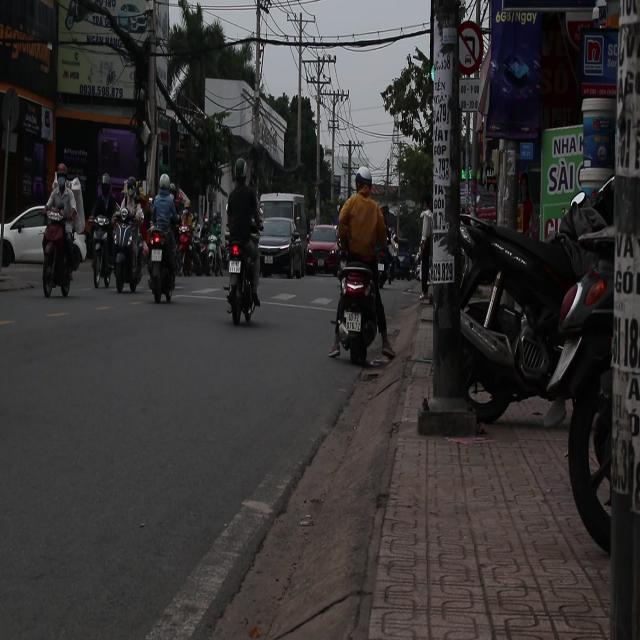car: (0, 205, 51, 265), (307, 226, 339, 276)
motorbike: (446, 200, 612, 432), (340, 264, 378, 376), (42, 203, 78, 300), (110, 208, 145, 295), (227, 237, 262, 323), (147, 228, 180, 302), (89, 216, 117, 292), (177, 226, 202, 276), (205, 242, 221, 278)
truck: (257, 194, 310, 276)
